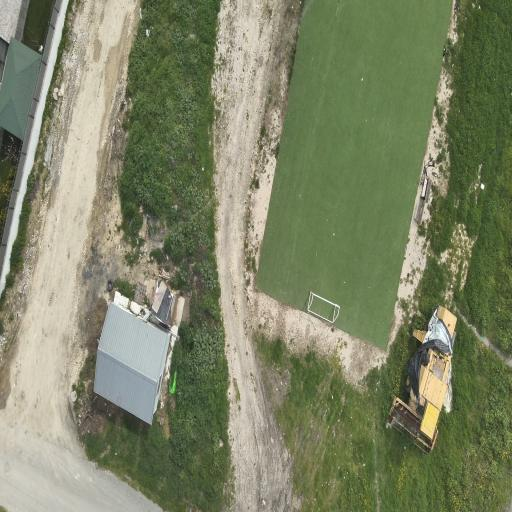harvester: (389, 307, 456, 453)
